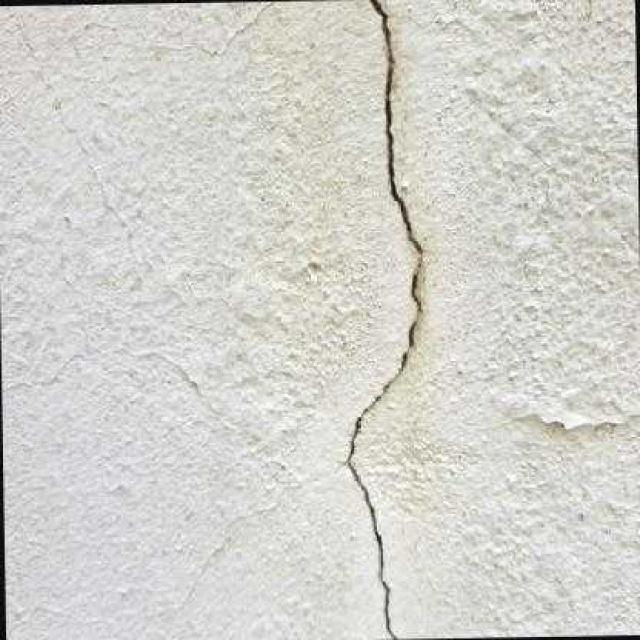D00: (348, 0, 421, 639)
